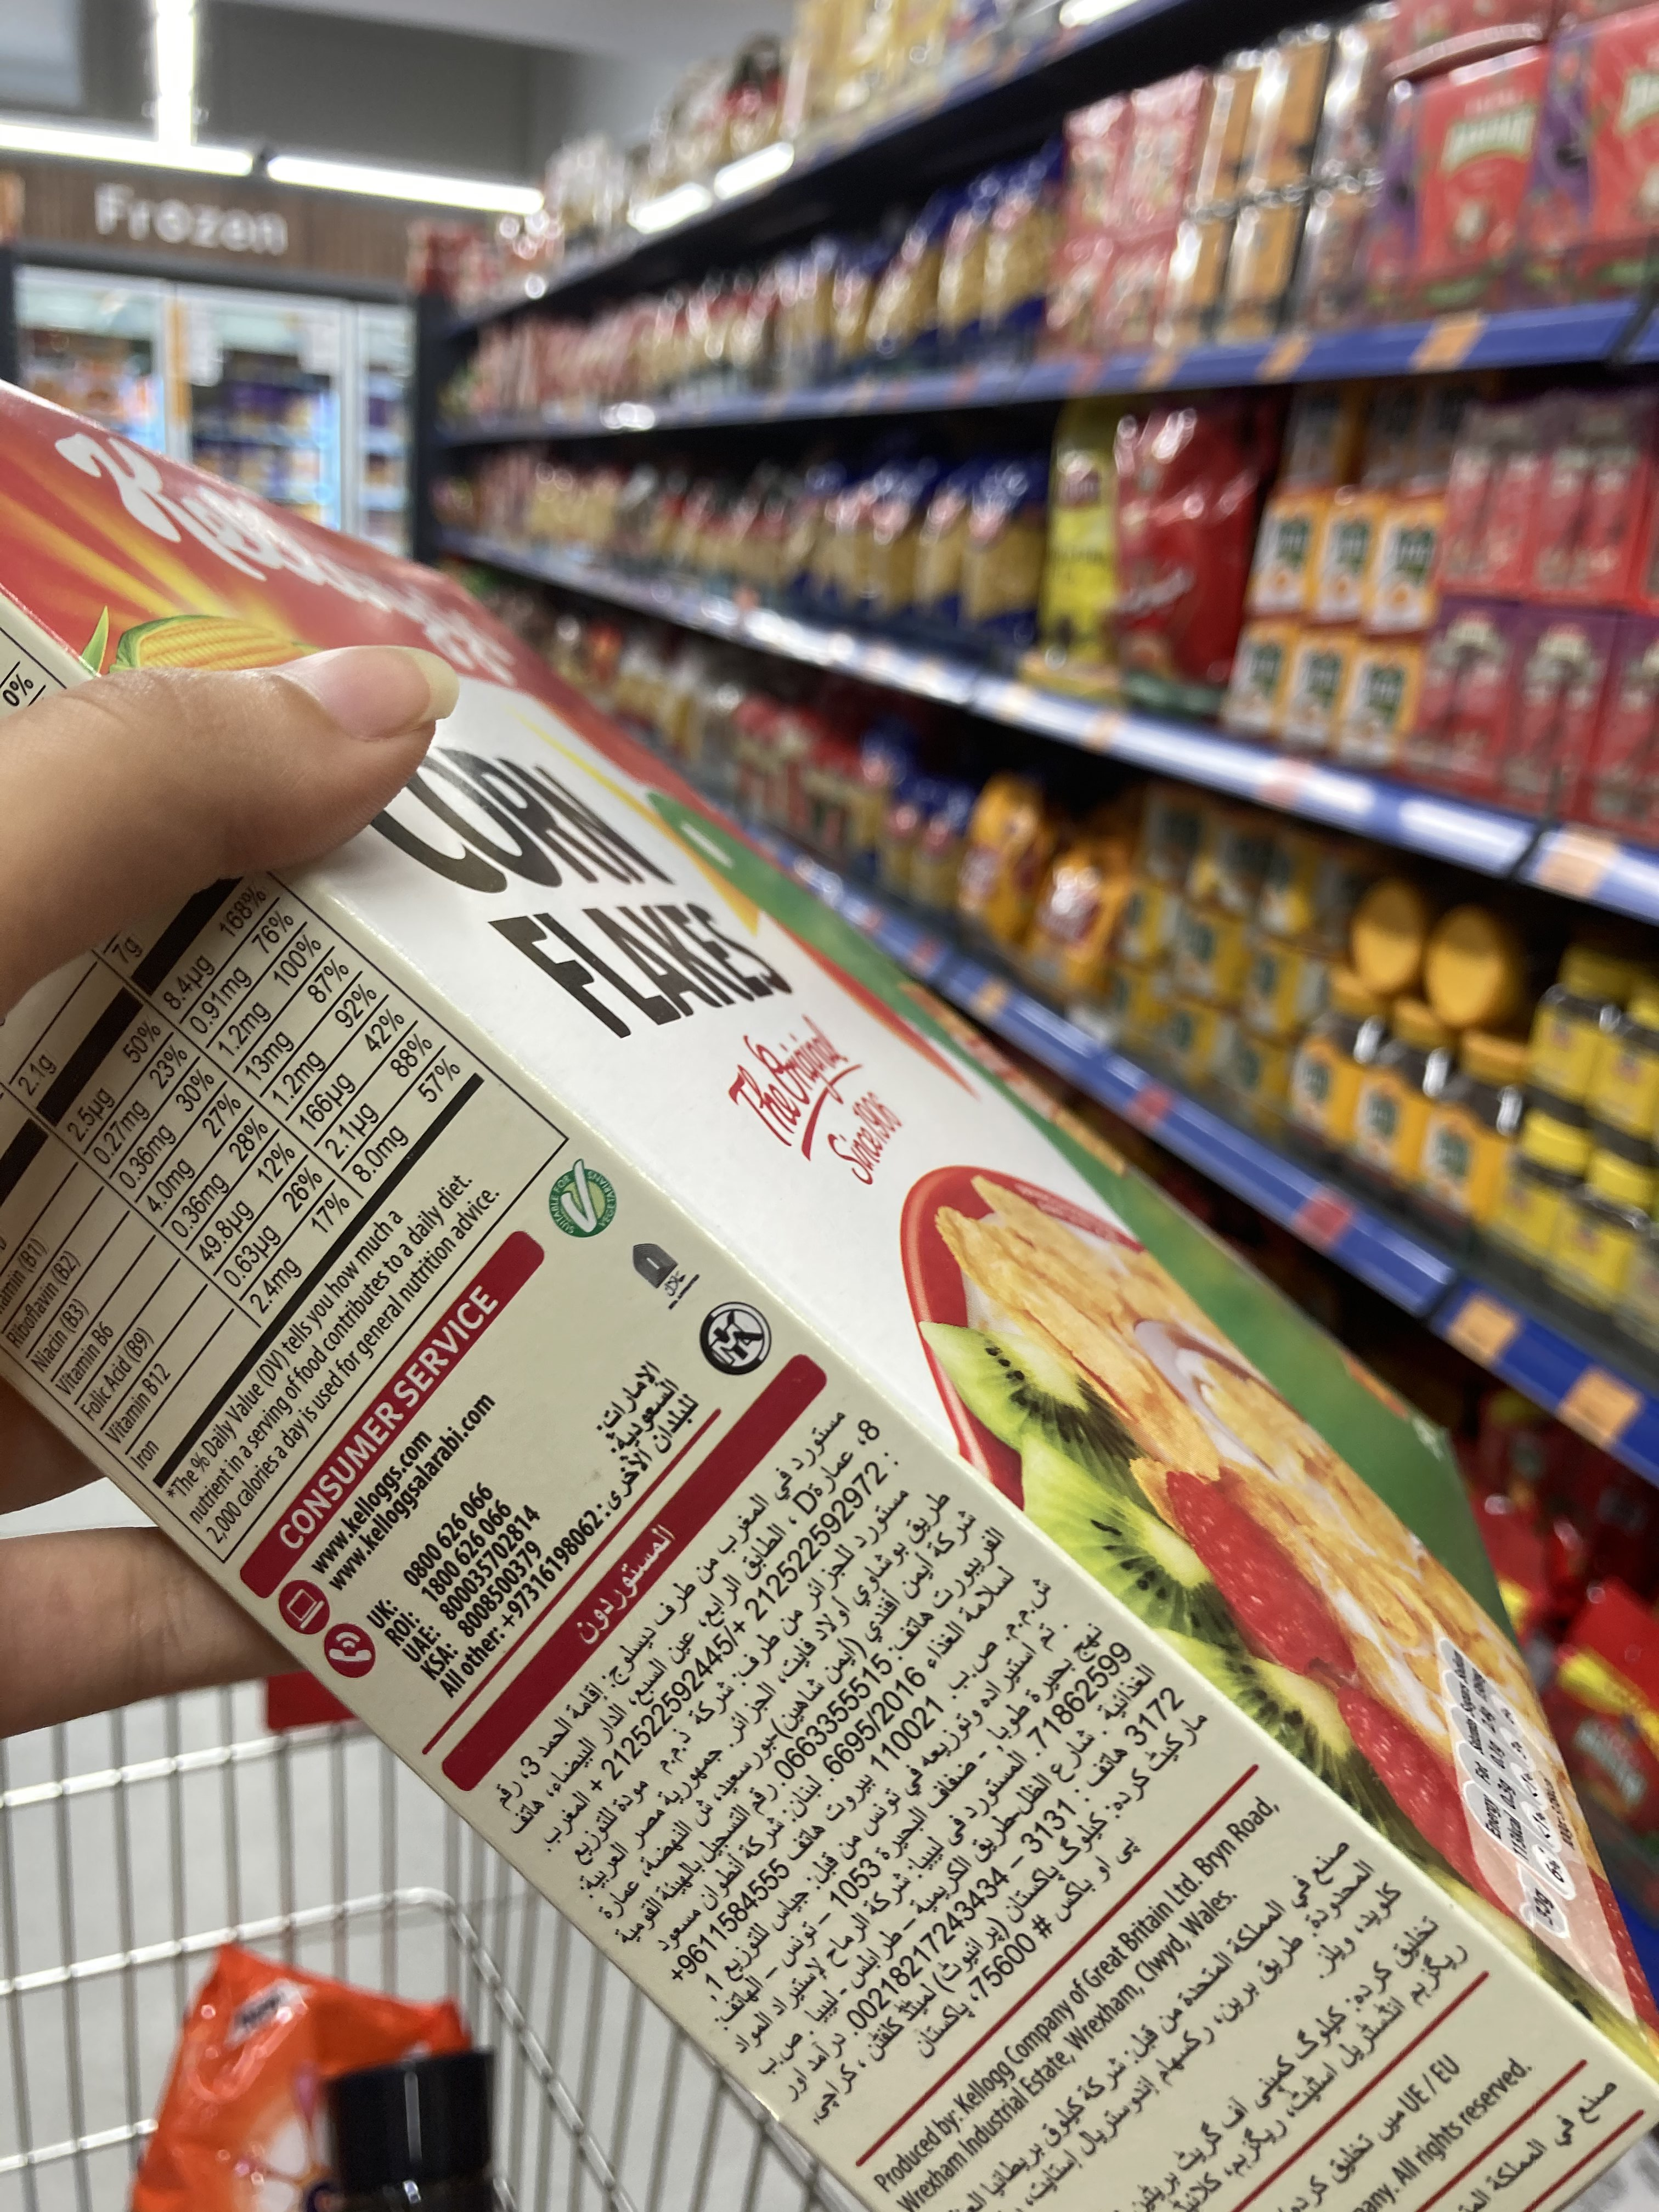Kellogg's Corn Flakes: (2, 352, 1647, 2210)
